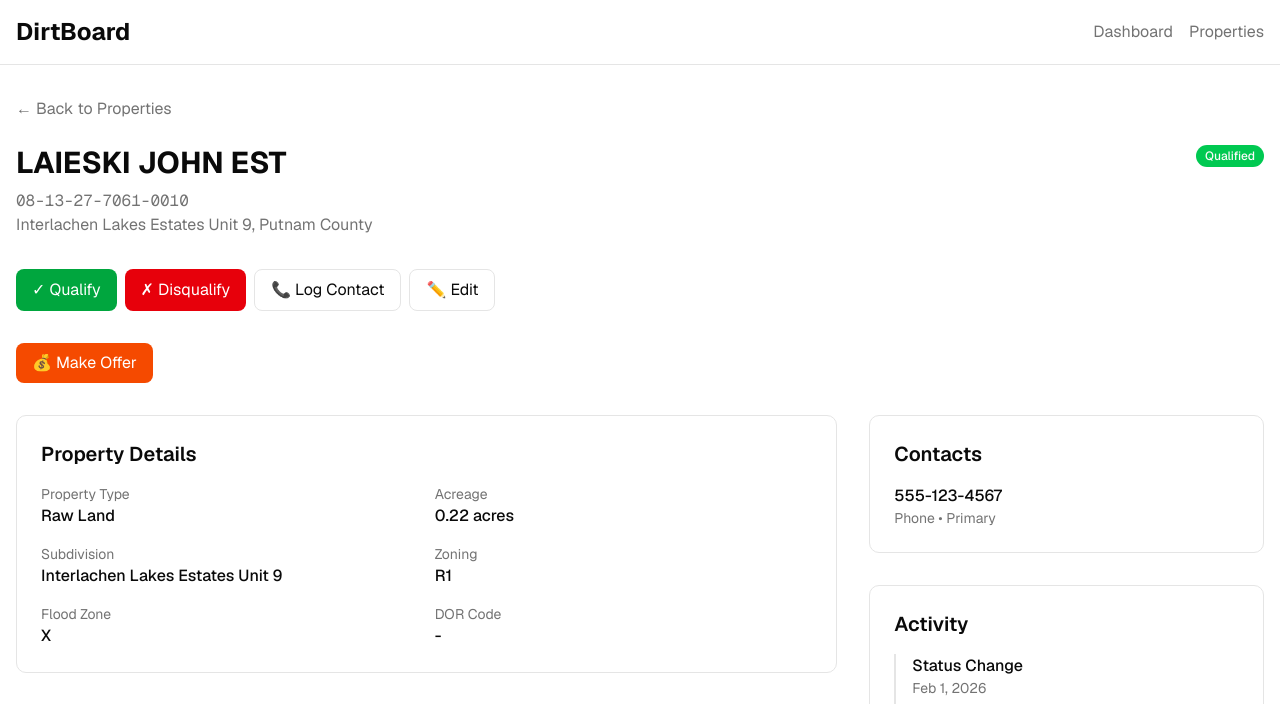
Test: Property Detail Page › property_type dropdown only offers raw_land, improved, mobile_home
Click the button "✏️ Edit".
click(452, 290)  # box [409,269,495,311]
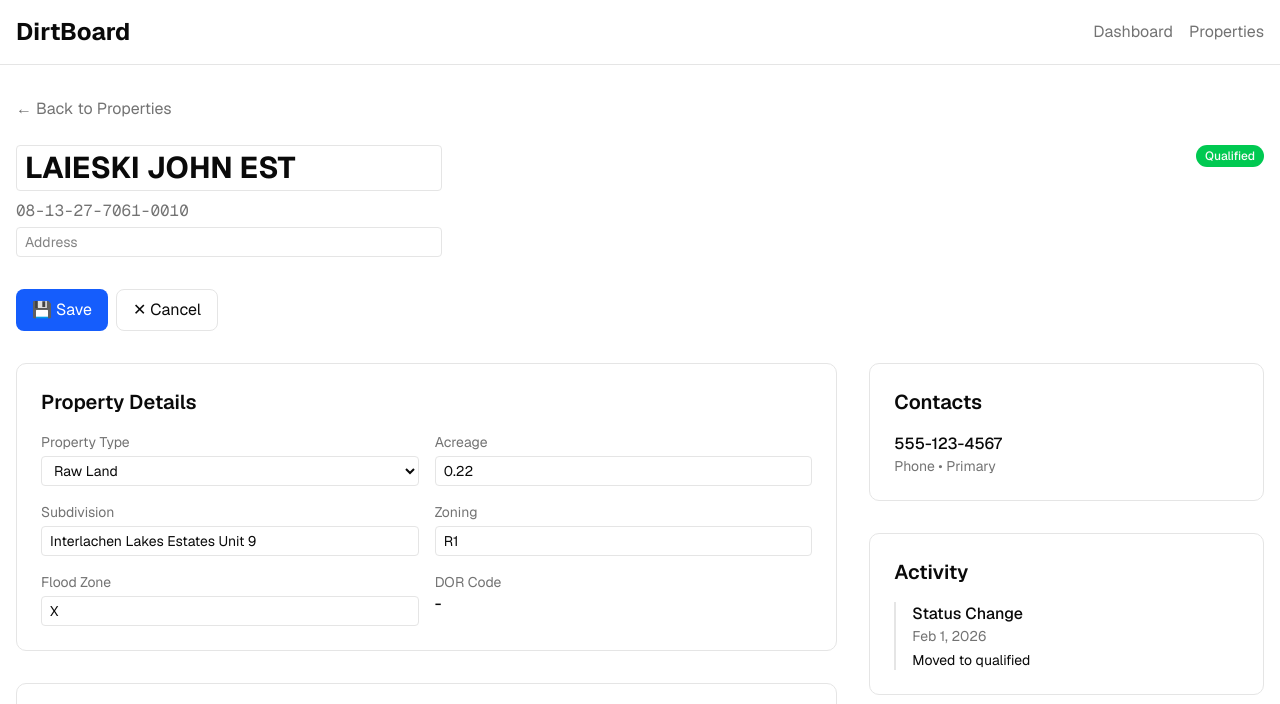
Check: the dropdown is shown, box [41,456,419,486]
